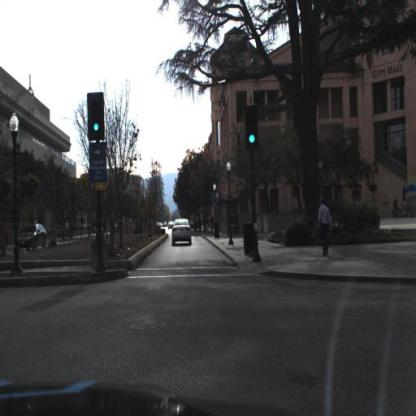car: (16, 221, 49, 252), (171, 218, 194, 248)
pedestrian: (317, 198, 333, 260)
trafficLight-Green: (88, 94, 106, 140), (247, 108, 259, 153)
